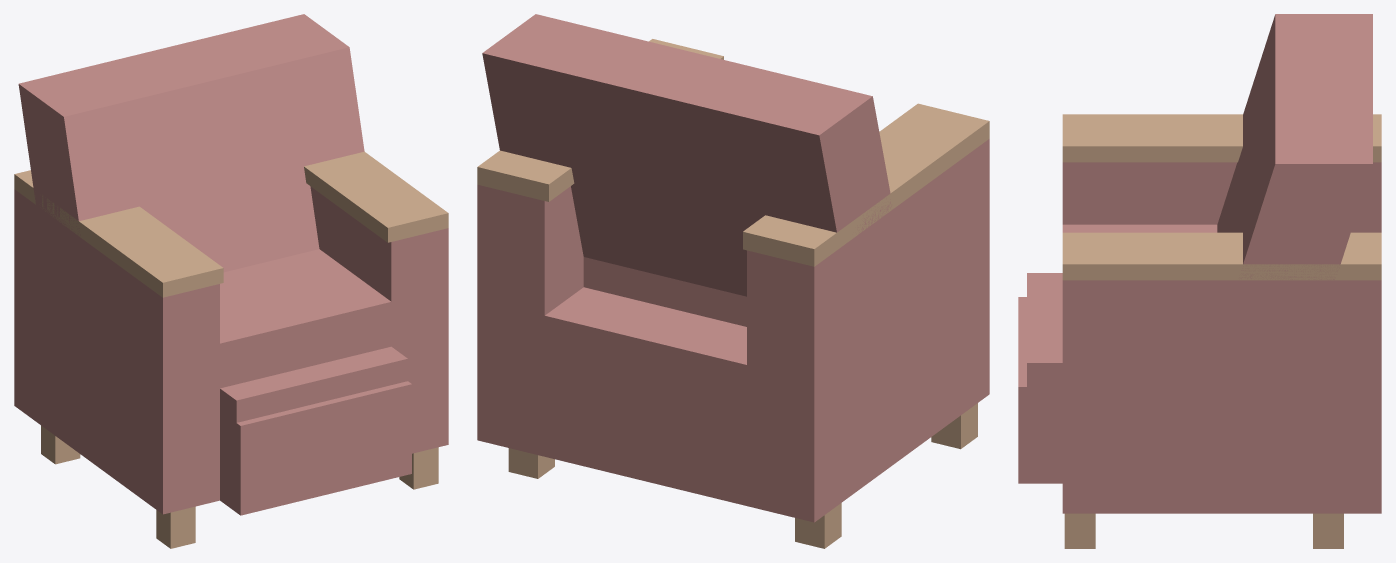
The model's file is reclinerClassic.glb.
3 views of the same model, side by side, from view 1: azimuth 30°, elevation 25°; view 2: azimuth 150°, elevation 25°; view 3: azimuth 270°, elevation 25° (orthographic). The views are drawn at different scales.
Visible parts, largest first — view 1: reclinerClassic; view 2: reclinerClassic; view 3: reclinerClassic.
Part boxes in pixels (left/top/right/bottom): reclinerClassic: left=14, top=14, right=448, bottom=548; reclinerClassic: left=477, top=14, right=989, bottom=548; reclinerClassic: left=1018, top=14, right=1381, bottom=548.
Size of the model in its own units: 0.4 by 0.485 by 0.41.
